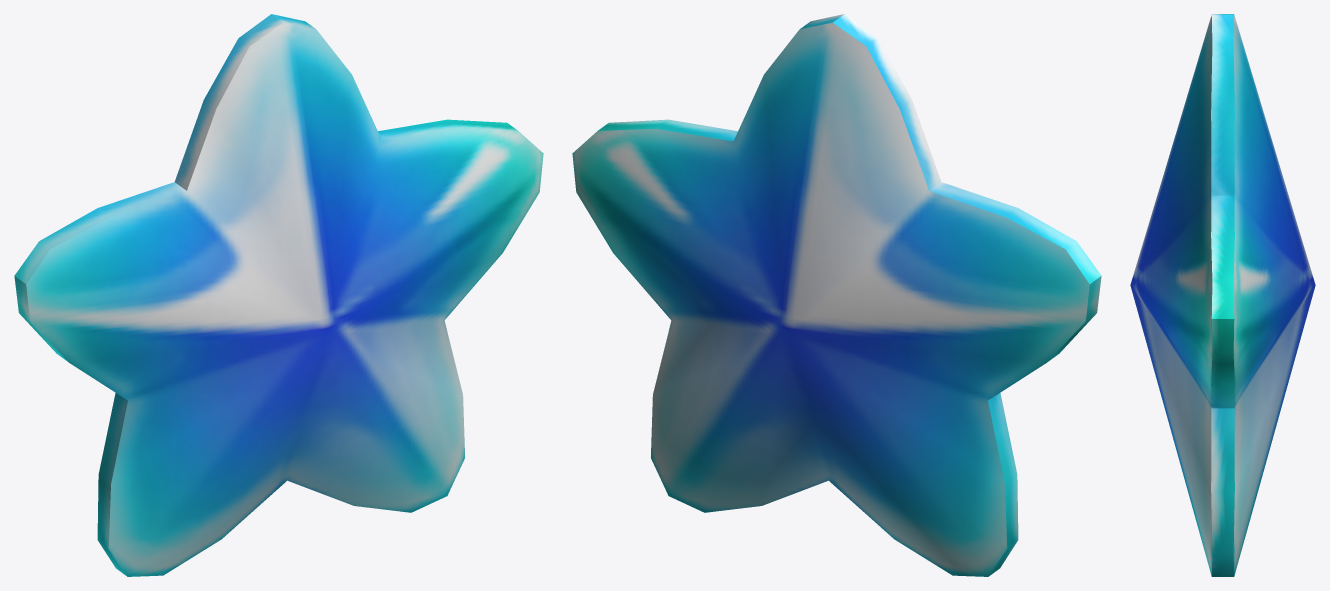
File: scenes_common_tools03b.FBX
3 renders of one model, left to right at view 1: azimuth 30°, elevation 25°; view 2: azimuth 150°, elevation 25°; view 3: azimuth 270°, elevation 25°, orthographic. The views are drawn at different scales.
Parts seen in each view (by area): view 1: scenes_common_tools03b; view 2: scenes_common_tools03b; view 3: scenes_common_tools03b.
Part boxes in pixels (bbox=[...]): scenes_common_tools03b: bbox=[14, 14, 543, 576]; scenes_common_tools03b: bbox=[572, 14, 1101, 576]; scenes_common_tools03b: bbox=[1130, 14, 1315, 576].
Size of the model in its own units: 92.04 by 89.08 by 30.12.
